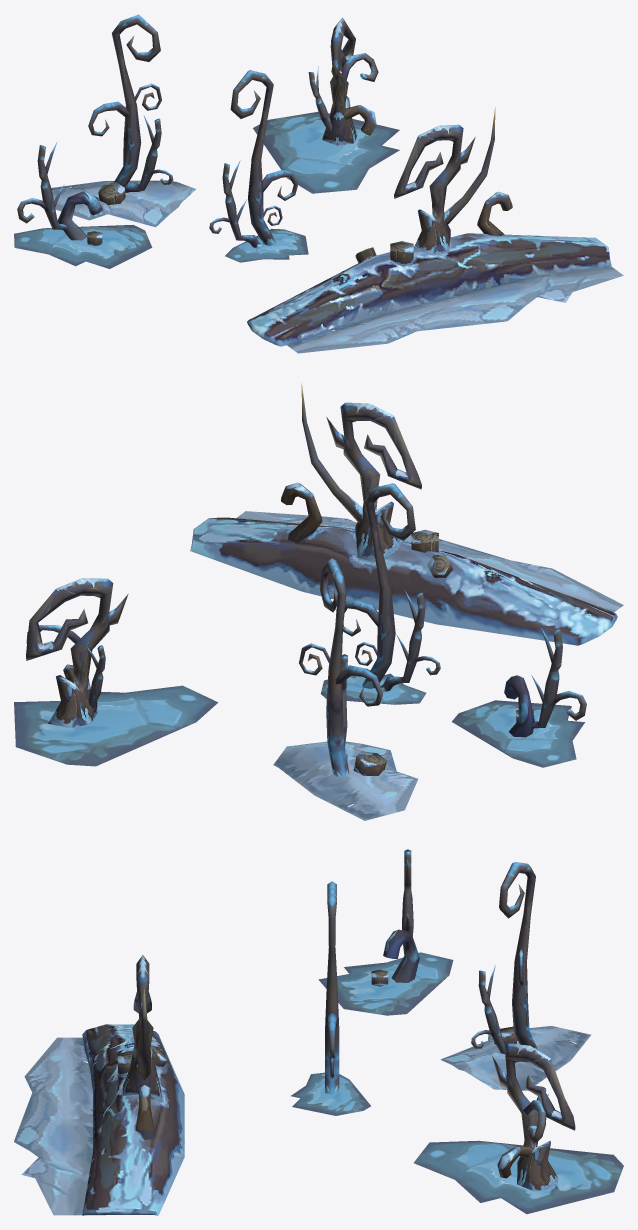
Rendered from LanLong_GuanMu.fbx.
3 views of the same model, one above another, from view 1: azimuth 30°, elevation 25°; view 2: azimuth 150°, elevation 25°; view 3: azimuth 270°, elevation 25° (orthographic). The views are drawn at different scales.
Parts seen in each view (by area): view 1: LanLong_GuanMu_04, LanLong_GuanMu_02, LanLong_GuanMu_03, LanLong_GuanMu_01, LanLong_GuanMu_05; view 2: LanLong_GuanMu_04, LanLong_GuanMu_02, LanLong_GuanMu_03, LanLong_GuanMu_01, LanLong_GuanMu_05; view 3: LanLong_GuanMu_04, LanLong_GuanMu_02, LanLong_GuanMu_03, LanLong_GuanMu_01, LanLong_GuanMu_05.
Part boxes in pixels (x1=…): LanLong_GuanMu_04: x1=247, y1=107, x2=623, y2=353; LanLong_GuanMu_02: x1=253, y1=17, x2=399, y2=193; LanLong_GuanMu_03: x1=51, y1=14, x2=195, y2=227; LanLong_GuanMu_01: x1=14, y1=142, x2=152, y2=268; LanLong_GuanMu_05: x1=209, y1=70, x2=308, y2=262; LanLong_GuanMu_04: x1=190, y1=383, x2=623, y2=645; LanLong_GuanMu_02: x1=14, y1=578, x2=218, y2=766; LanLong_GuanMu_03: x1=273, y1=558, x2=418, y2=820; LanLong_GuanMu_01: x1=452, y1=625, x2=586, y2=767; LanLong_GuanMu_05: x1=320, y1=483, x2=440, y2=704; LanLong_GuanMu_04: x1=14, y1=955, x2=184, y2=1215; LanLong_GuanMu_02: x1=414, y1=1043, x2=623, y2=1214; LanLong_GuanMu_03: x1=440, y1=862, x2=591, y2=1090; LanLong_GuanMu_01: x1=318, y1=849, x2=453, y2=1015; LanLong_GuanMu_05: x1=291, y1=881, x2=370, y2=1115.
Bounding box in the file's own units: 1518 × 603 × 1564.
